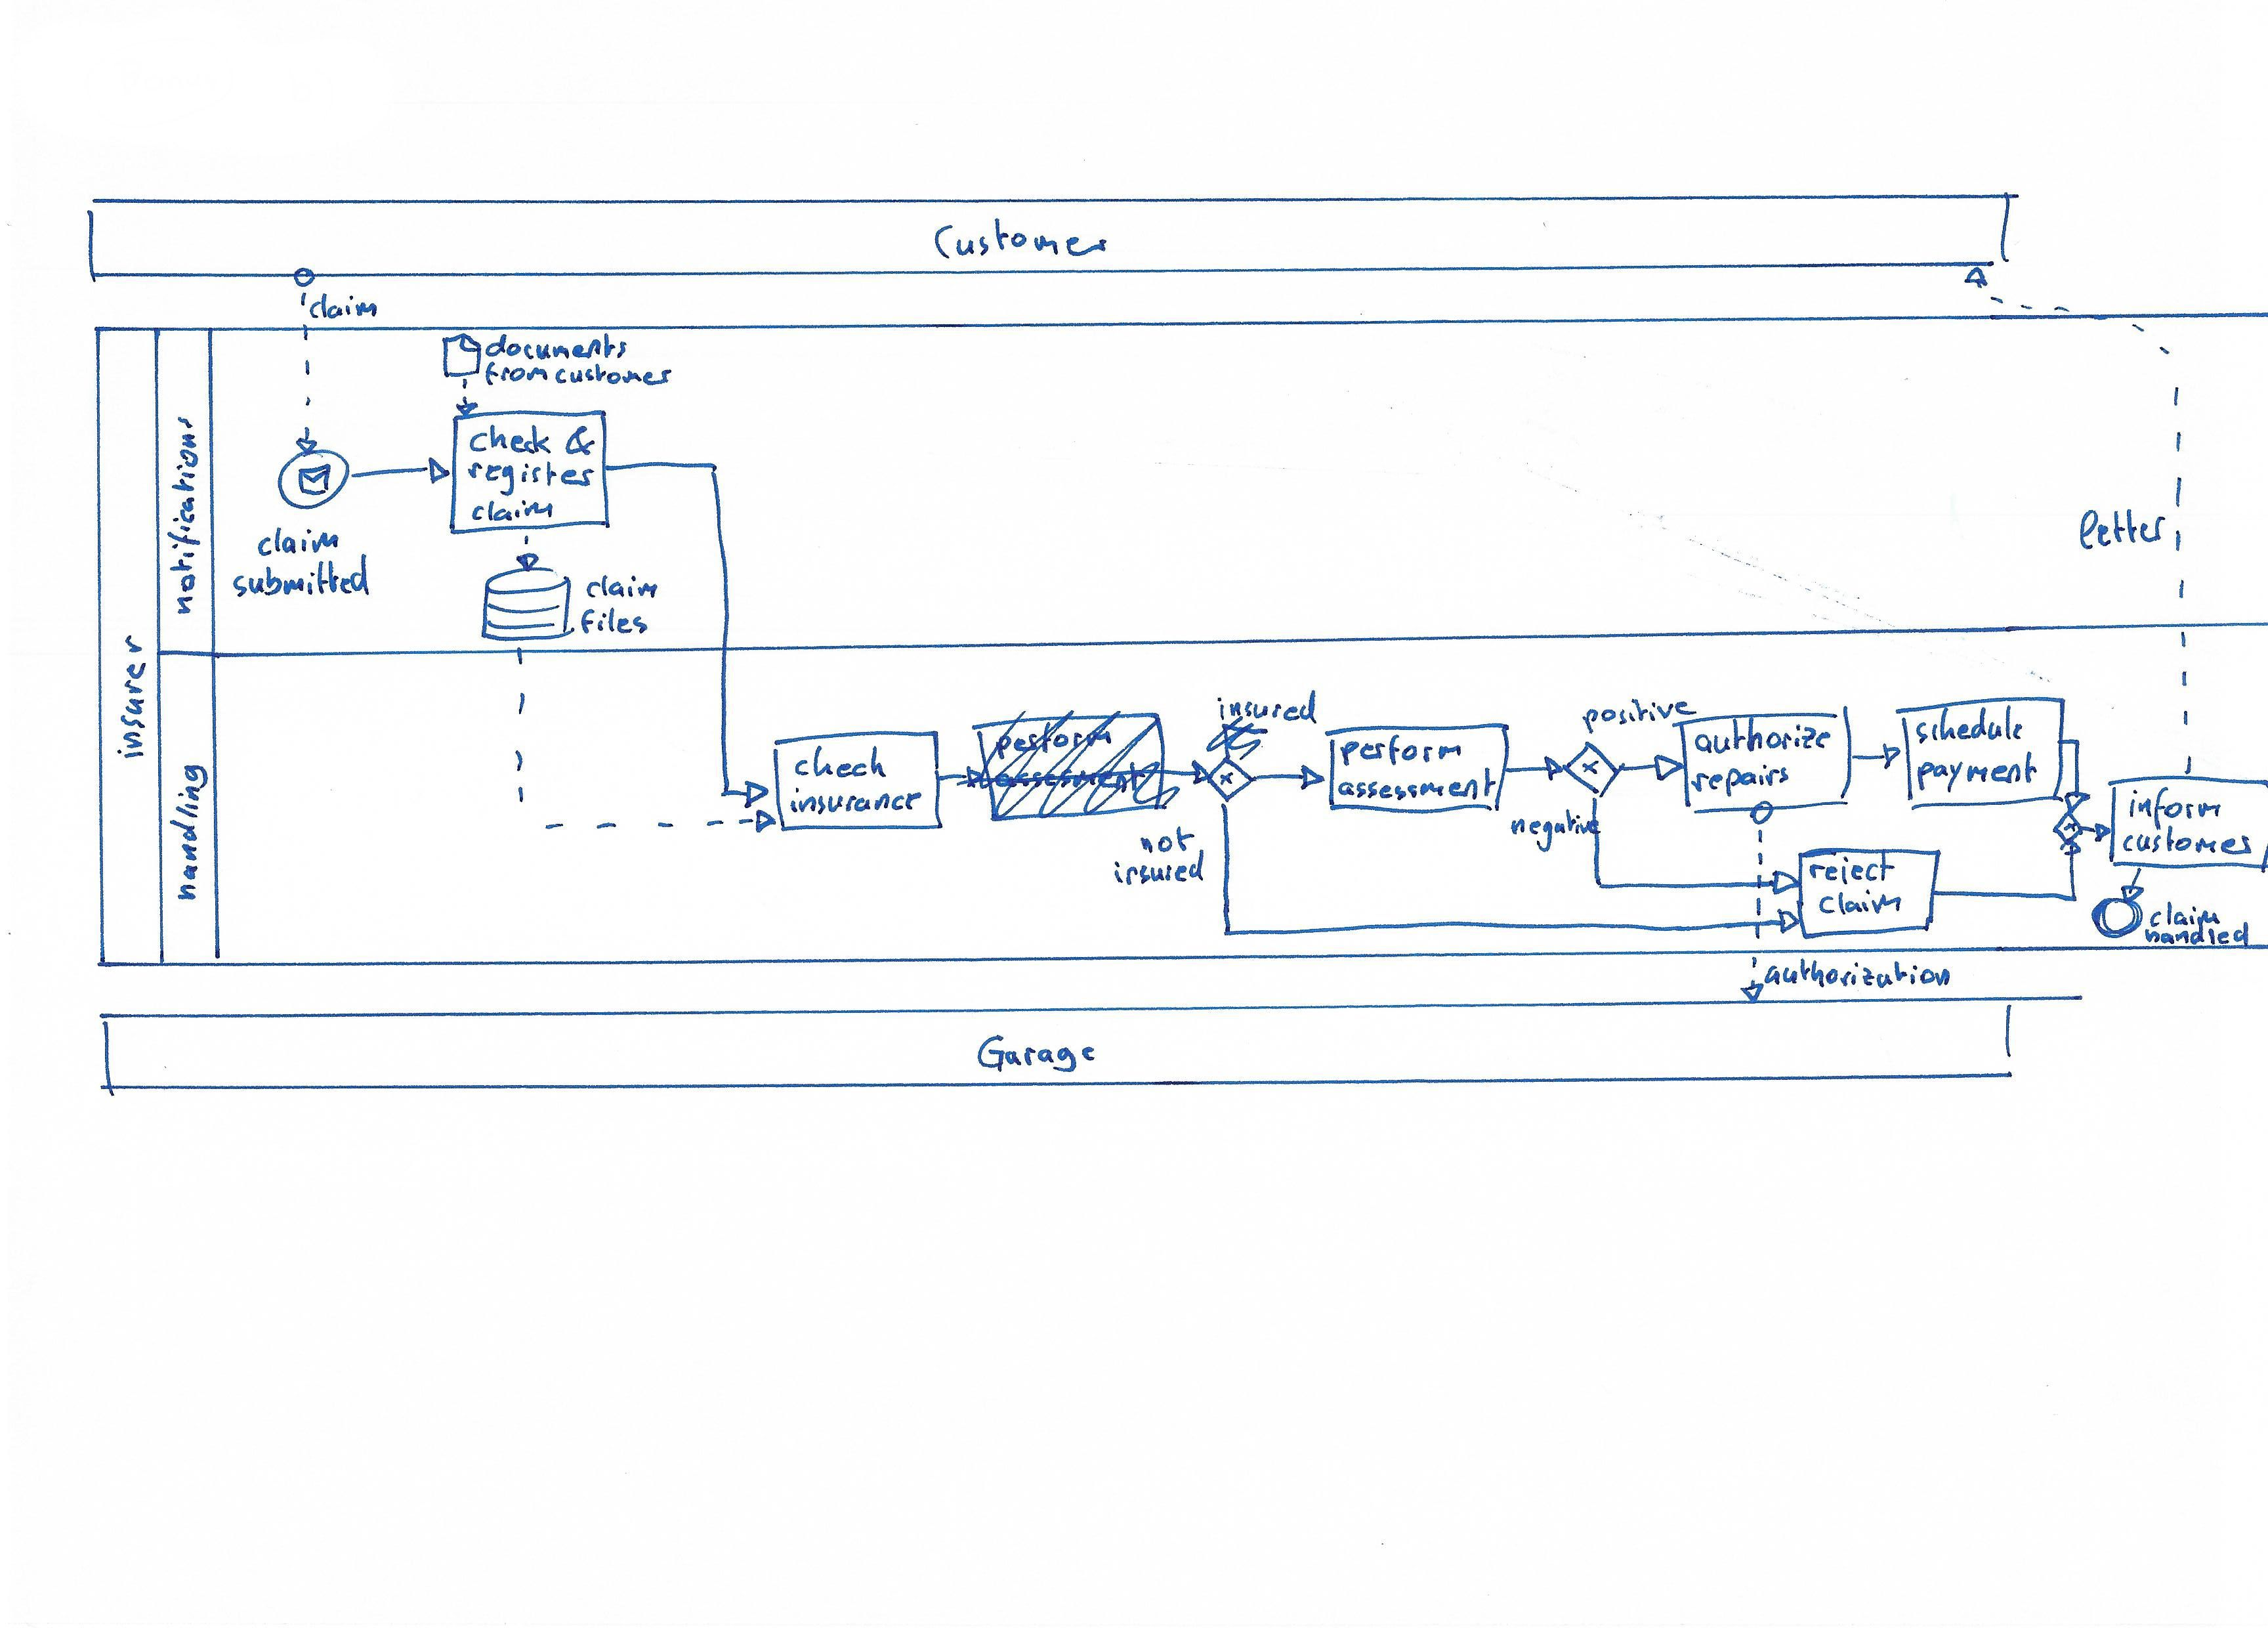&: (560, 421, 600, 460)
Customer: (928, 211, 1115, 266)
Garage: (972, 1031, 1102, 1077)
assessment: (1335, 763, 1500, 805)
authorization: (1757, 953, 1956, 992)
authorize: (1690, 712, 1837, 759)
check: (789, 740, 891, 784), (465, 419, 558, 460)
claim: (250, 522, 345, 562), (1814, 884, 1907, 920), (2145, 897, 2228, 934), (467, 495, 558, 527), (305, 289, 382, 324), (581, 571, 662, 603)
customer: (2118, 819, 2257, 862), (551, 359, 674, 389)
documents: (482, 328, 632, 365)
files: (576, 603, 653, 640)
from: (482, 358, 553, 389)
handled: (2139, 916, 2256, 950)
handling: (164, 759, 213, 907)
inform: (2124, 782, 2226, 835)
insurance: (784, 781, 928, 819)
insured: (1211, 685, 1322, 729), (1109, 844, 1211, 892)
insurer: (111, 629, 151, 763)
letter: (2074, 504, 2173, 557)
negative: (1506, 805, 1604, 856)
not: (1136, 823, 1199, 856)
notifications: (162, 409, 208, 620)
payment: (1912, 747, 2041, 800)
perform: (1335, 729, 1469, 772)
positive: (1578, 692, 1703, 738)
register: (463, 456, 600, 500)
reject: (1805, 847, 1900, 892)
repairs: (1687, 759, 1794, 803)
schedule: (1911, 701, 2029, 749)
submitted: (227, 548, 377, 604)
